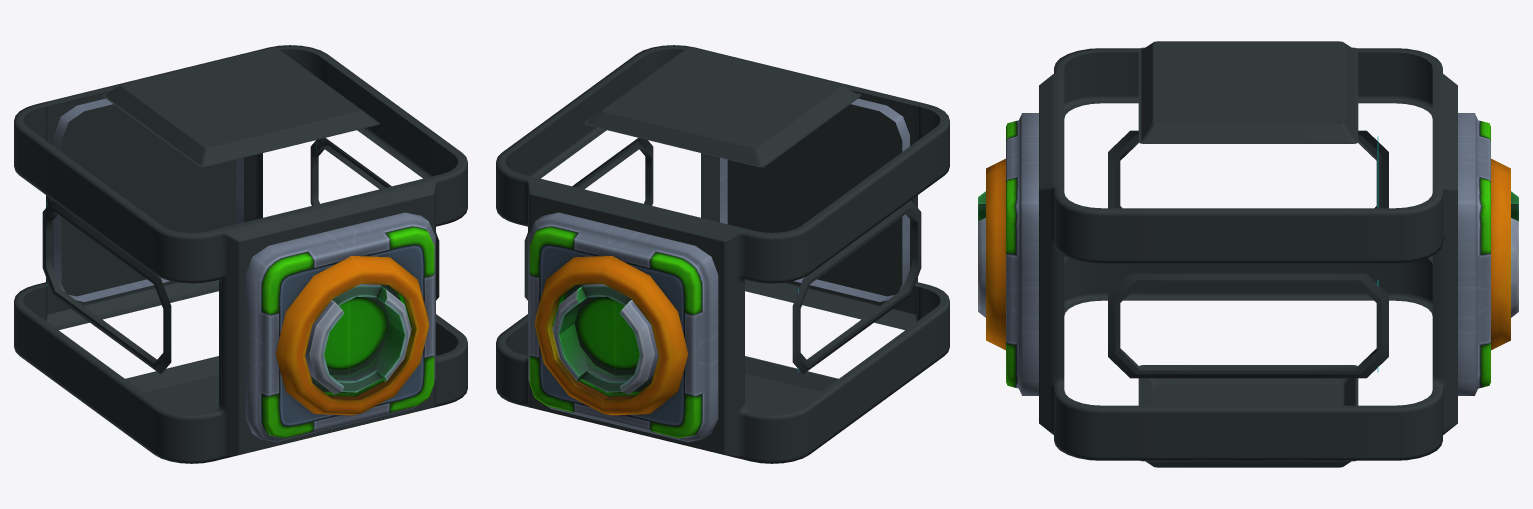
File: fant_smartchest_1.obj
3 renders of one model, left to right at view 1: azimuth 30°, elevation 25°; view 2: azimuth 150°, elevation 25°; view 3: azimuth 270°, elevation 25°, orthographic. The views are drawn at different scales.
Parts seen in each view (by area): view 1: Fant_SmartChest_Cube; view 2: Fant_SmartChest_Cube; view 3: Fant_SmartChest_Cube.
Part boxes in pixels (x1=…): Fant_SmartChest_Cube: x1=14, y1=45, x2=467, y2=463; Fant_SmartChest_Cube: x1=496, y1=45, x2=949, y2=463; Fant_SmartChest_Cube: x1=978, y1=41, x2=1518, y2=467.
Size of the model in its own units: 3 by 3 by 4.17.
